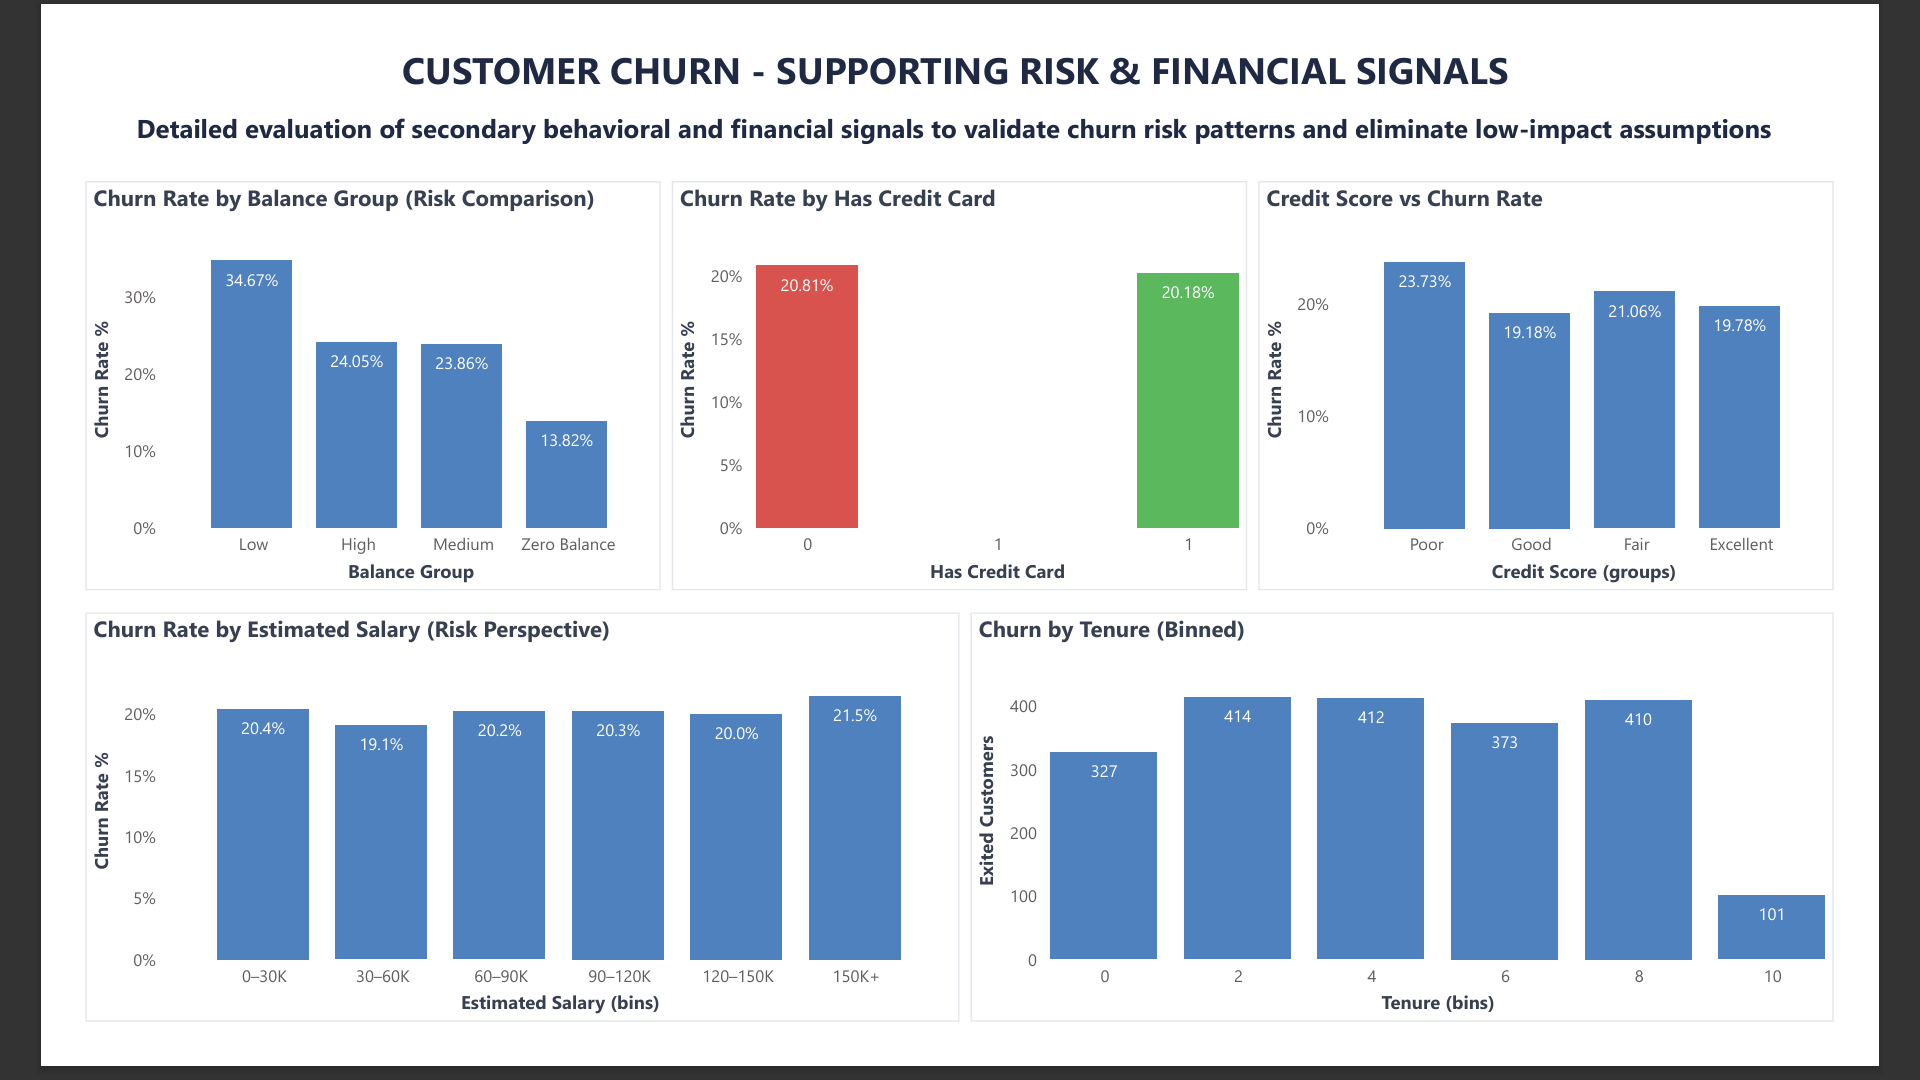

The dashboard page shown, as its layout file describes it:
{"tool":"powerbi","page":{"name":"Page 2","canvas":[1280,720],"ordinal":1},"visuals":[{"type":"textbox","box":[232,0,816,48],"z":0},{"type":"textbox","box":[40,48,1216,40],"z":1000},{"type":"clusteredColumnChart","title":"Churn Rate by Balance Group (Risk Comparison)","fields":{"Category":["Churn_Modelling.Balance Group"],"Y":["Churn_Modelling.Churn Rate %"]},"box":[8,104,416,296],"z":2000},{"type":"columnChart","title":"Credit Score vs Churn Rate","fields":{"Category":["Churn_Modelling.CreditScore (groups)"],"Y":["Churn_Modelling.Churn Rate %"]},"box":[856,104,416,296],"z":3000},{"type":"clusteredColumnChart","title":"Churn Rate by Has Credit Card","fields":{"Category":["Churn_Modelling.HasCrCard"],"Y":["Churn_Modelling.Churn Rate %"]},"box":[432,104,416,296],"z":4000},{"type":"clusteredColumnChart","title":"Churn Rate by Estimated Salary (Risk Perspective)","fields":{"Category":["Churn_Modelling.Salary Band"],"Y":["Churn_Modelling.Churn Rate %"]},"box":[8,416,632,296],"z":5000},{"type":"clusteredColumnChart","title":"Churn by Tenure (Binned)","fields":{"Category":["Churn_Modelling.Tenure (bins)"],"Y":["Churn_Modelling.Exited Customers"]},"box":[648,416,624,296],"z":6000}]}

Visuals, with their boxes in screenshot pixels (x1, y1, x2, y2), scaled from the page's 1280x720 canvas onto the 1920x1080 screenshot:
textbox: (x1=348, y1=0, x2=1572, y2=72)
textbox: (x1=60, y1=72, x2=1884, y2=132)
"Churn Rate by Balance Group (Risk Comparison)" clusteredColumnChart: (x1=12, y1=156, x2=636, y2=600)
"Credit Score vs Churn Rate" columnChart: (x1=1284, y1=156, x2=1908, y2=600)
"Churn Rate by Has Credit Card" clusteredColumnChart: (x1=648, y1=156, x2=1272, y2=600)
"Churn Rate by Estimated Salary (Risk Perspective)" clusteredColumnChart: (x1=12, y1=624, x2=960, y2=1068)
"Churn by Tenure (Binned)" clusteredColumnChart: (x1=972, y1=624, x2=1908, y2=1068)
